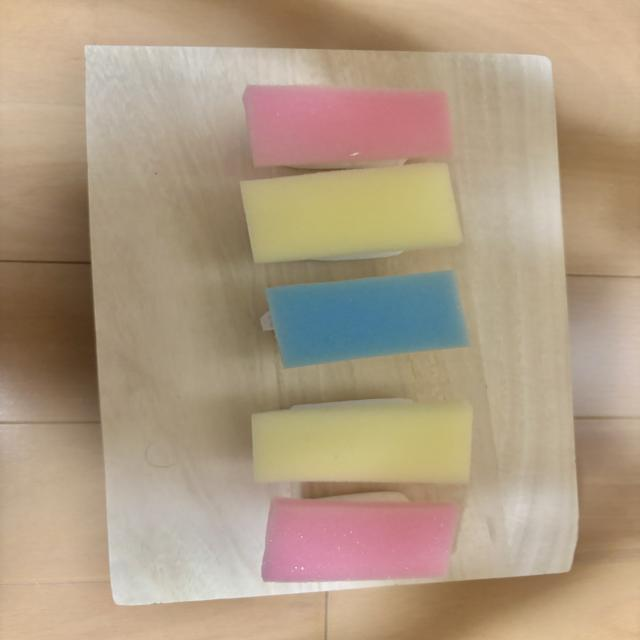ika: (261, 270, 469, 368)
tai: (261, 492, 459, 582), (243, 85, 453, 169)
tamago: (240, 163, 462, 263), (252, 399, 473, 483)
